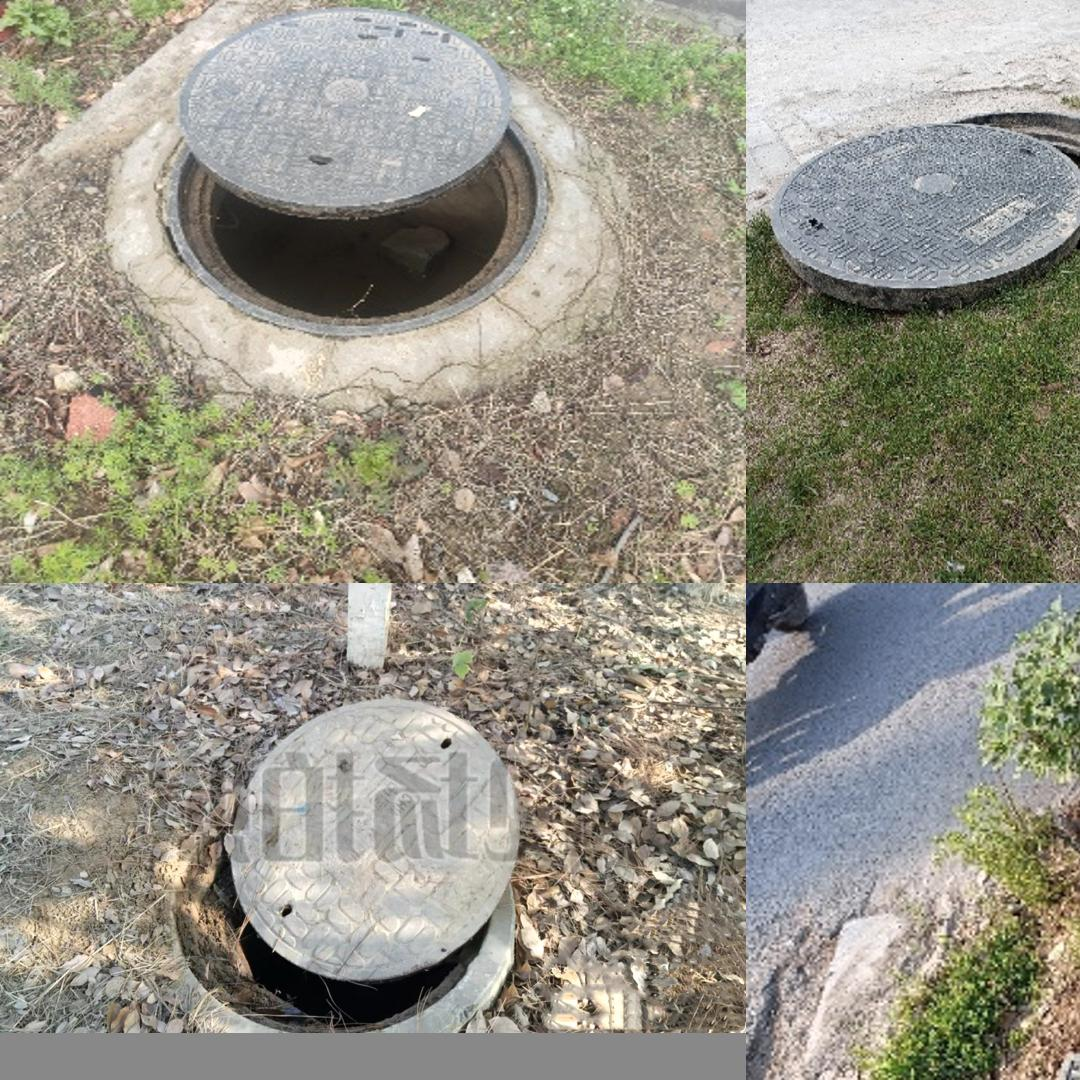uncovered: (158, 1, 566, 344), (152, 697, 517, 1033), (773, 108, 1080, 314), (903, 990, 1080, 1080)
